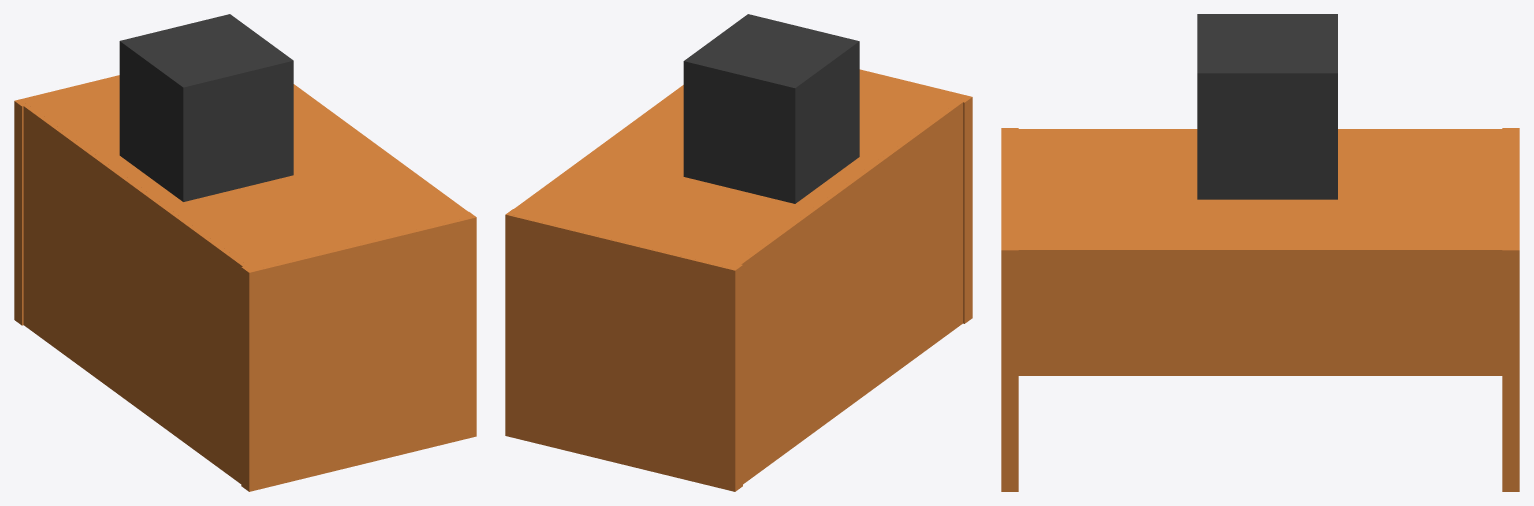
The model's file is TableAndComputer.glb.
3 renders of one model, left to right at view 1: azimuth 30°, elevation 25°; view 2: azimuth 150°, elevation 25°; view 3: azimuth 270°, elevation 25°, orthographic. The views are drawn at different scales.
Visible parts, largest first — view 1: Cube.007, Cube.004; view 2: Cube.007, Cube.004; view 3: Cube.007, Cube.004.
Part boxes in pixels (bbox=[...]): Cube.007: bbox=[14, 75, 476, 491]; Cube.004: bbox=[119, 14, 293, 201]; Cube.007: bbox=[505, 69, 972, 491]; Cube.004: bbox=[683, 14, 859, 203]; Cube.007: bbox=[1001, 128, 1519, 491]; Cube.004: bbox=[1197, 14, 1337, 199].
Size of the model in its own units: 1.16 by 1.62 by 2.07.
